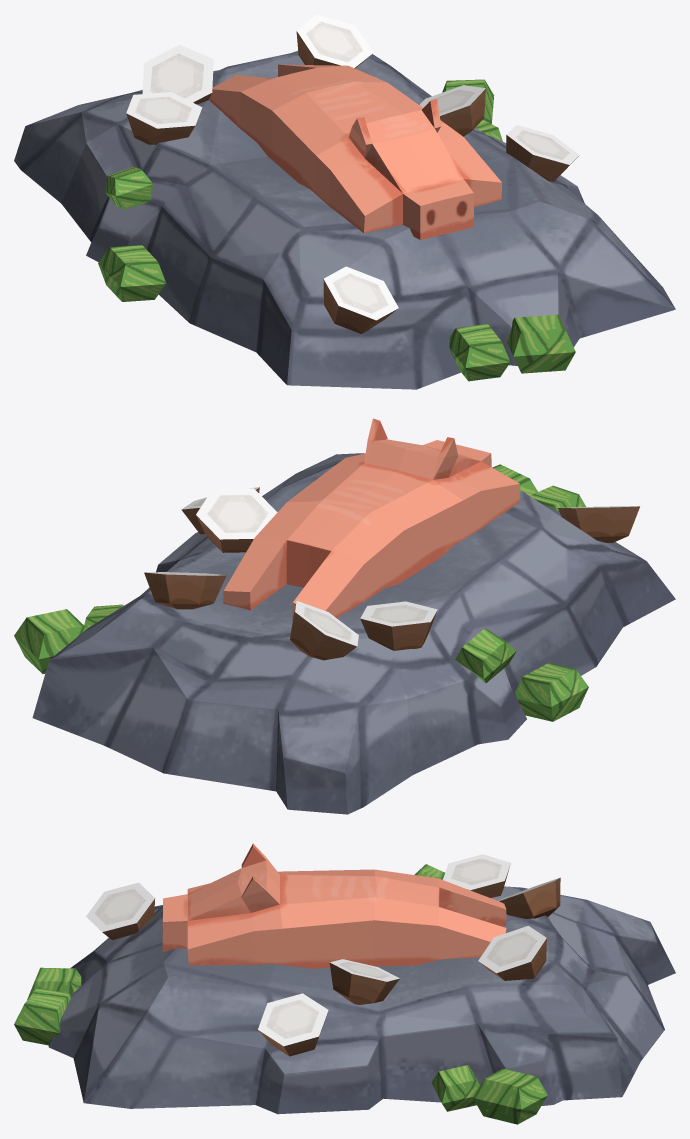
The model's file is umu.fbx.
The picture shows the model from 3 angles, top to bottom: view 1: azimuth 30°, elevation 25°; view 2: azimuth 150°, elevation 25°; view 3: azimuth 270°, elevation 25°; orthographic projection. The views are drawn at different scales.
Visible parts, largest first — view 1: umu; view 2: umu; view 3: umu.
Part boxes in pixels (x1,y1,x2,y2): umu: (14, 14, 675, 389); umu: (14, 418, 675, 814); umu: (14, 843, 675, 1124).
Bounding box in the file's own units: 2.06 × 0.7719 × 2.78.
